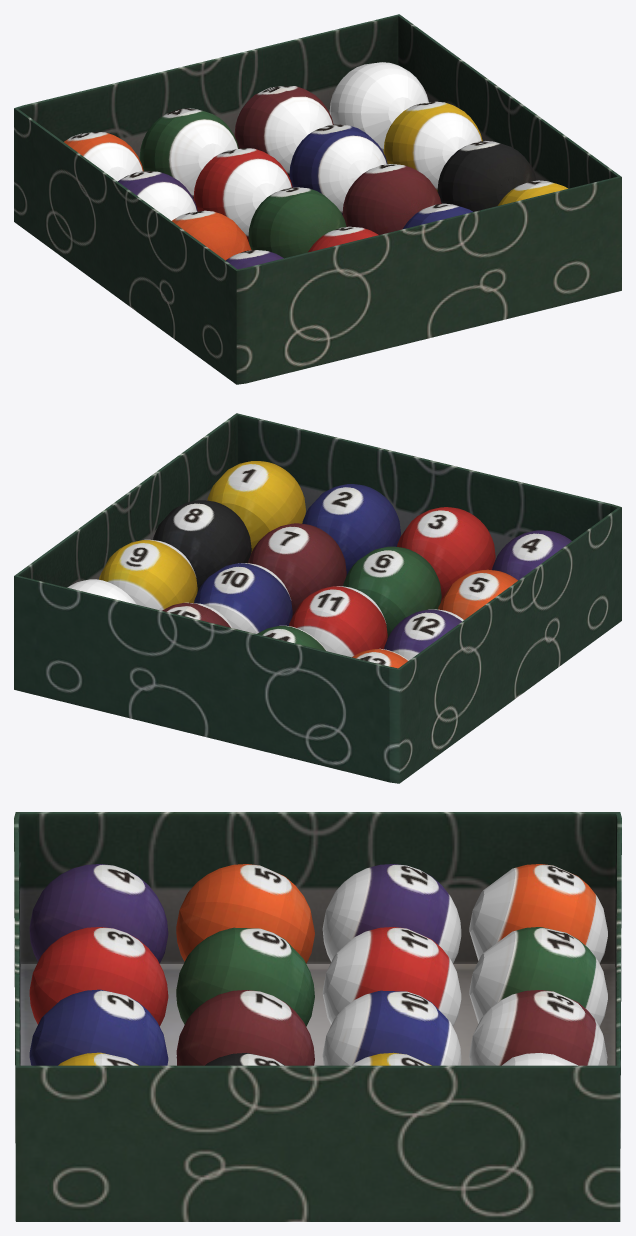
3 views of the same model, one above another, from view 1: azimuth 30°, elevation 25°; view 2: azimuth 150°, elevation 25°; view 3: azimuth 270°, elevation 25° (orthographic). The views are drawn at different scales.
Parts seen in each view (by area): view 1: Object04; view 2: Object04; view 3: Object04.
Part boxes in pixels (x1,y1,x2,y2): Object04: (14, 14, 621, 384); Object04: (14, 413, 621, 783); Object04: (14, 812, 621, 1221).
Size of the model in its own units: 24.34 by 6.9 by 24.47.
